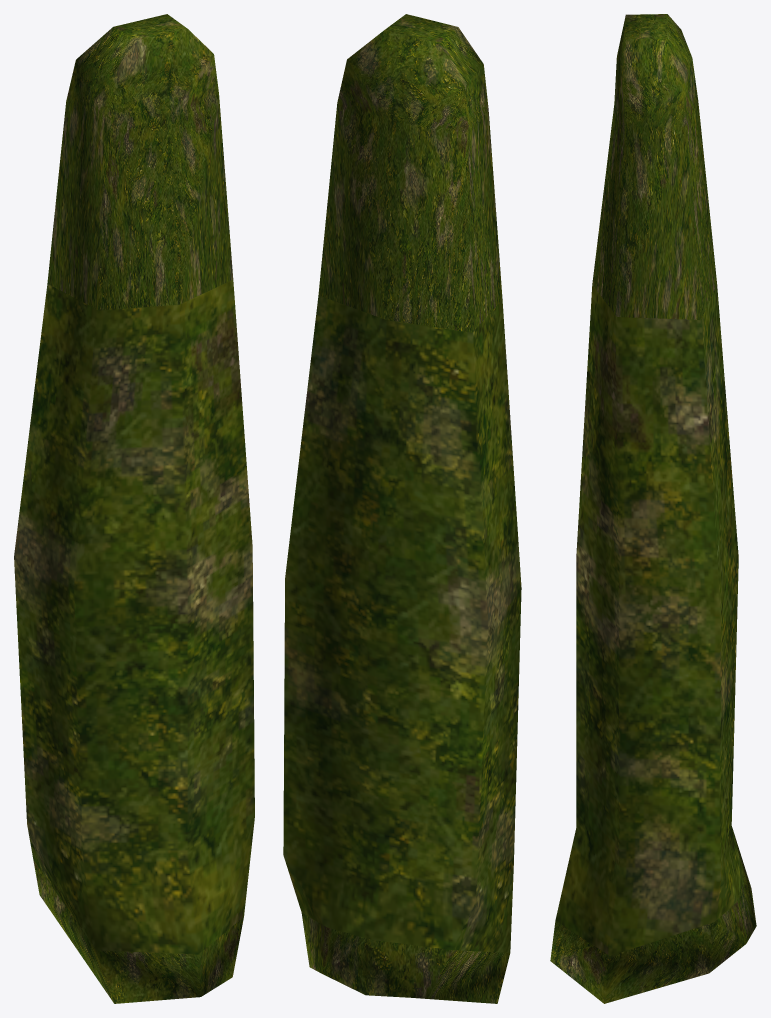
Rendered from ANIMATEDINSTANCES_ROCK_BRIDGE1__AI.fbx.
3 renders of one model, left to right at view 1: azimuth 30°, elevation 25°; view 2: azimuth 150°, elevation 25°; view 3: azimuth 270°, elevation 25°, orthographic. The views are drawn at different scales.
Visible parts, largest first — view 1: ANIMATEDINSTANCES_ROCK_BRIDGE1__AI; view 2: ANIMATEDINSTANCES_ROCK_BRIDGE1__AI; view 3: ANIMATEDINSTANCES_ROCK_BRIDGE1__AI.
Boxes of the visible parts, box(x1,y1,x2,y2) form: ANIMATEDINSTANCES_ROCK_BRIDGE1__AI: box(14, 14, 254, 1003); ANIMATEDINSTANCES_ROCK_BRIDGE1__AI: box(283, 14, 521, 1003); ANIMATEDINSTANCES_ROCK_BRIDGE1__AI: box(550, 14, 756, 1003).
Bounding box in the file's own units: 13471 × 61590 × 12144.
1 material, 1 textured.
